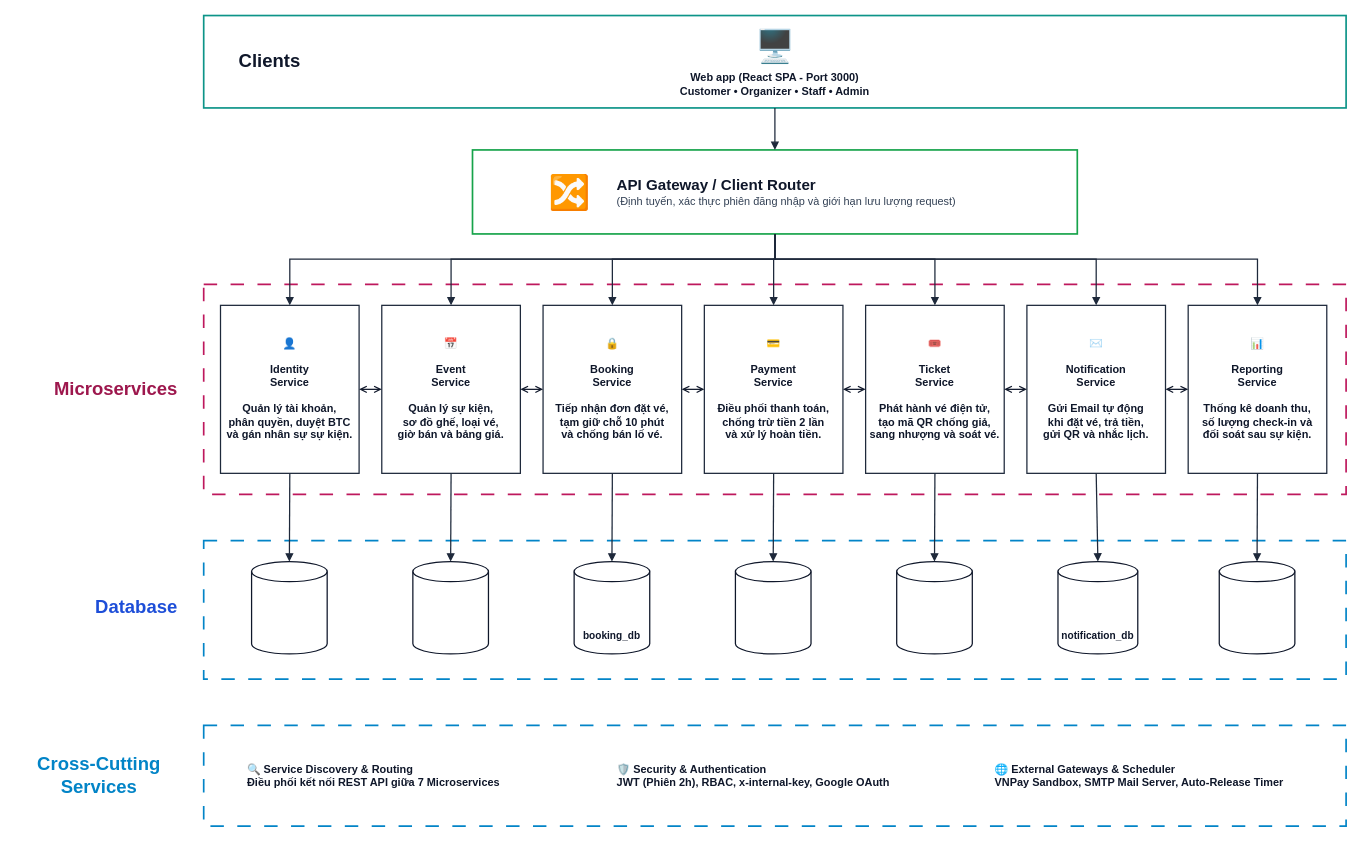
Some shapes in this 1361 by 841 pixel diagram are drawn without their labels. The shapes that lost their labels are listed below. From the top down, each one's centre as x and y in pixels, then its label:
At point (289, 607): "identity_db".
At point (450, 607): "event_db".
At point (772, 607): "payment_db".
At point (934, 607): "ticket_db".
At point (1256, 607): "reporting_db".
